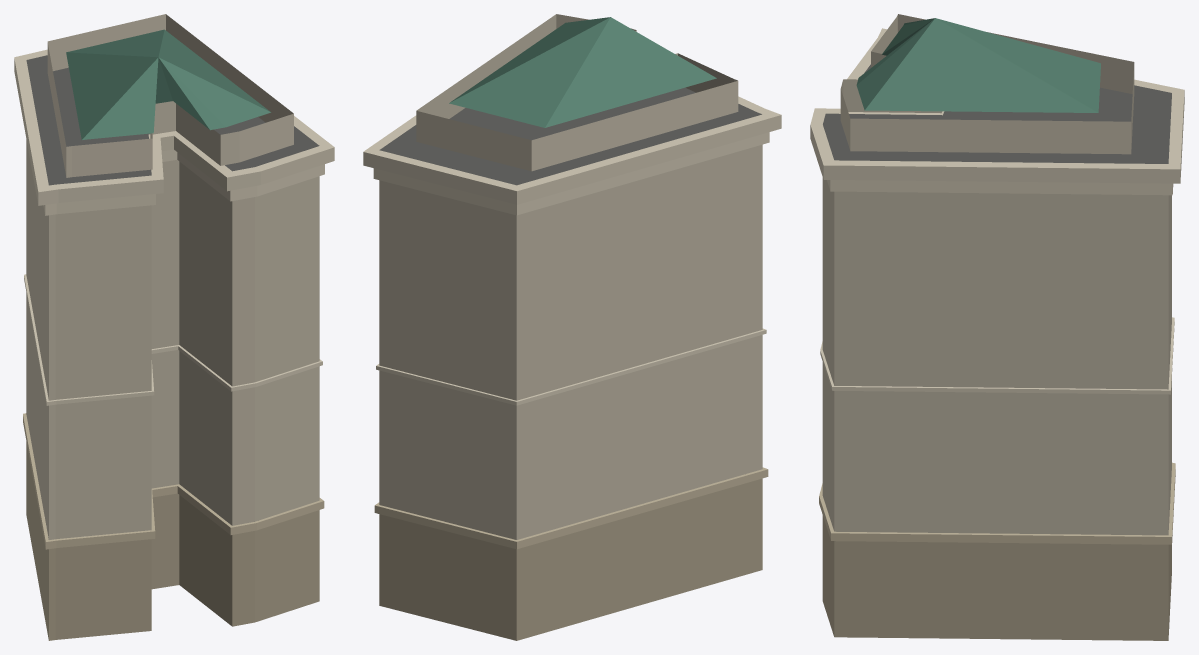
File: candler-building.glb
3 renders of one model, left to right at view 1: azimuth 30°, elevation 25°; view 2: azimuth 150°, elevation 25°; view 3: azimuth 270°, elevation 25°, orthographic. The views are drawn at different scales.
Parts seen in each view (by area): view 1: lod0_bld_wall, lod0_lm_flood, lod0_lm_metal, lod0_bld_roof, lod1_lm_stone, lod0_lm_stone; view 2: lod0_bld_wall, lod0_lm_flood, lod0_lm_metal, lod0_bld_roof, lod1_lm_stone, lod0_lm_stone; view 3: lod0_bld_wall, lod0_lm_flood, lod0_lm_metal, lod0_bld_roof, lod1_lm_stone, lod0_lm_stone.
Part boxes in pixels (x1,y1,x2,y2): lod0_bld_wall: (26,14,319,640); lod0_lm_flood: (14,49,334,549); lod0_lm_metal: (66,29,270,139); lod0_bld_roof: (26,55,319,185); lod1_lm_stone: (110,46,210,103); lod0_lm_stone: (24,274,322,405); lod0_bld_wall: (379,14,762,640); lod0_lm_flood: (363,96,781,549); lod0_lm_metal: (449,20,716,127); lod0_bld_roof: (379,87,761,185); lod1_lm_stone: (545,17,642,74); lod0_lm_stone: (376,328,766,405); lod0_bld_wall: (822,14,1171,640); lod0_lm_flood: (810,28,1184,544); lod0_lm_metal: (856,20,1100,112); lod0_bld_roof: (823,64,1171,163); lod1_lm_stone: (901,18,1008,62); lod0_lm_stone: (820,317,1174,394).
Bounding box in the file's own units: 46.42 × 86.2 × 52.03.
